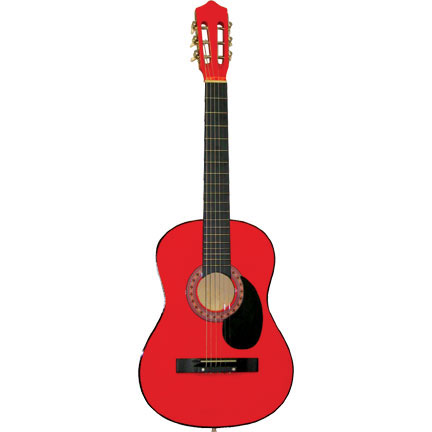guitar: (137, 1, 295, 428)
